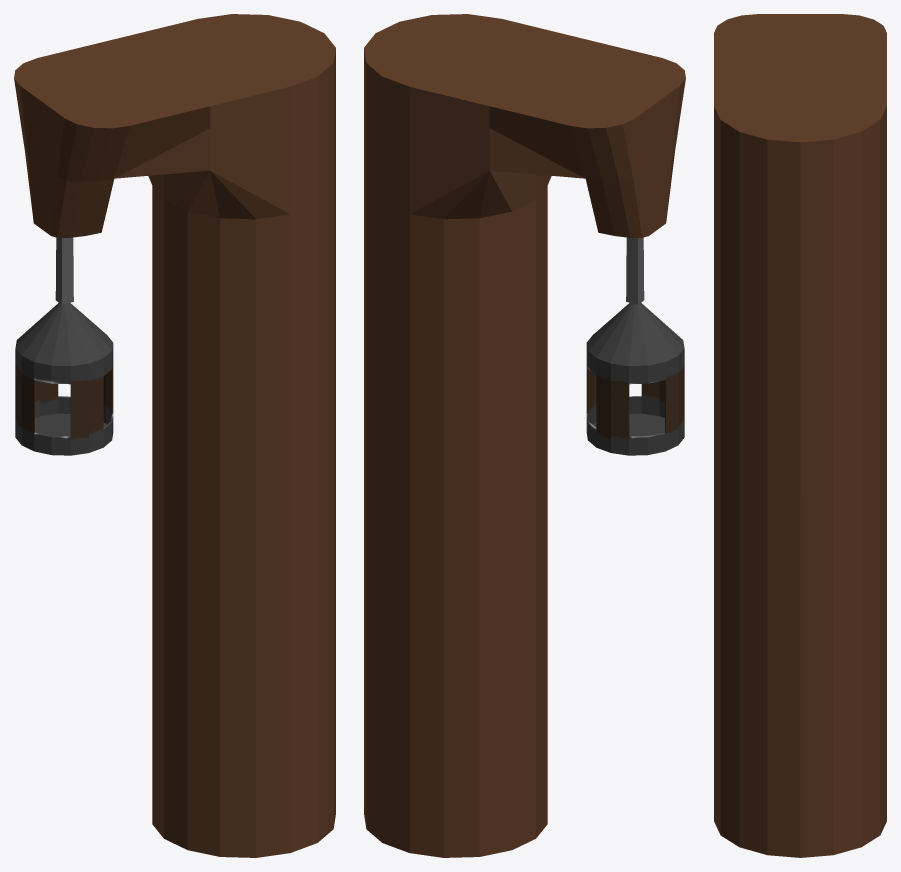
File: lampadaire.fbx
3 renders of one model, left to right at view 1: azimuth 30°, elevation 25°; view 2: azimuth 150°, elevation 25°; view 3: azimuth 270°, elevation 25°, orthographic. The views are drawn at different scales.
Parts seen in each view (by area): view 1: Lampadaire, Cube.001, Cube.002; view 2: Lampadaire, Cube.001, Cube.002; view 3: Lampadaire.
Boxes of the visible parts, box(x1,y1,x2,y2) form: Lampadaire: box(14, 14, 335, 857); Cube.001: box(15, 303, 113, 455); Cube.002: box(55, 237, 73, 304); Lampadaire: box(364, 14, 685, 857); Cube.001: box(586, 303, 684, 455); Cube.002: box(626, 237, 644, 304); Lampadaire: box(714, 14, 886, 857).
Bounding box in the file's own units: 377 × 913 × 200.
3 materials, 1 textured.
